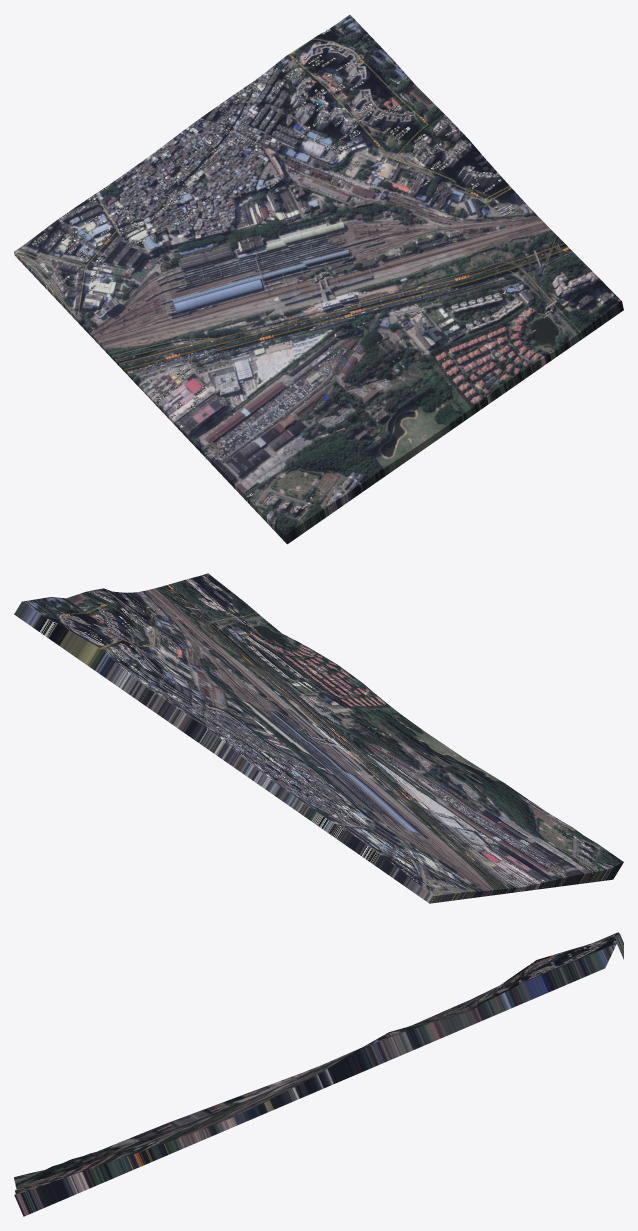
3 renders of one model, top to bottom at view 1: azimuth 30°, elevation 25°; view 2: azimuth 150°, elevation 25°; view 3: azimuth 270°, elevation 25°, orthographic. The views are drawn at different scales.
Visible parts, largest first — view 1: 1_3_15; view 2: 1_3_15; view 3: 1_3_15.
Part boxes in pixels (x1,y1,x2,y2): 1_3_15: (14, 15, 623, 544); 1_3_15: (14, 573, 623, 903); 1_3_15: (14, 932, 623, 1216).
Size of the model in its own units: 1230 by 913 by 1137.
Materials: 1 (1 with a texture image).
